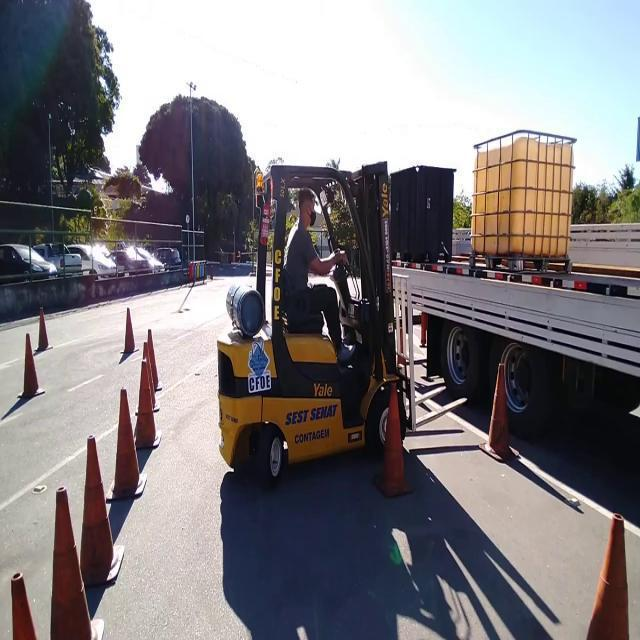forklift: (218, 163, 403, 457)
